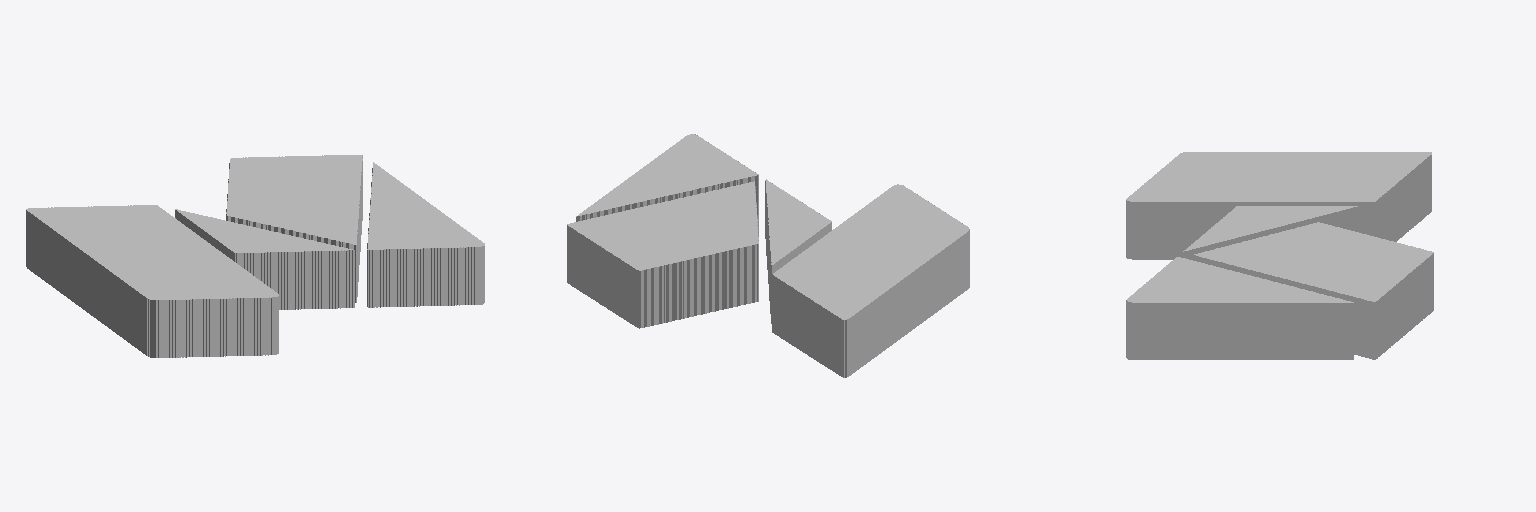
The model's file is medium.obj.
3 renders of one model, left to right at view 1: azimuth 30°, elevation 25°; view 2: azimuth 150°, elevation 25°; view 3: azimuth 270°, elevation 25°, orthographic.
Visible parts, largest first — view 1: Curve.006_Curve.005, Curve.003_Curve.002, Curve.004_Curve.003, Curve.005_Curve.004; view 2: Curve.006_Curve.005, Curve.004_Curve.003, Curve.003_Curve.002, Curve.005_Curve.004; view 3: Curve.006_Curve.005, Curve.003_Curve.002, Curve.004_Curve.003, Curve.005_Curve.004.
Boxes of the visible parts, box(x1,y1,x2,y2) form: Curve.006_Curve.005: box(26, 205, 278, 357); Curve.003_Curve.002: box(367, 162, 484, 307); Curve.004_Curve.003: box(226, 155, 362, 302); Curve.005_Curve.004: box(175, 209, 354, 309); Curve.006_Curve.005: box(772, 184, 969, 377); Curve.004_Curve.003: box(567, 181, 758, 328); Curve.003_Curve.002: box(576, 134, 758, 230); Curve.005_Curve.004: box(765, 179, 831, 323); Curve.006_Curve.005: box(1126, 152, 1431, 259); Curve.003_Curve.002: box(1126, 257, 1353, 359); Curve.004_Curve.003: box(1193, 222, 1433, 359); Curve.005_Curve.004: box(1183, 206, 1357, 259).
Bounding box in the file's own units: 0.0411 × 0.0073 × 0.0353.